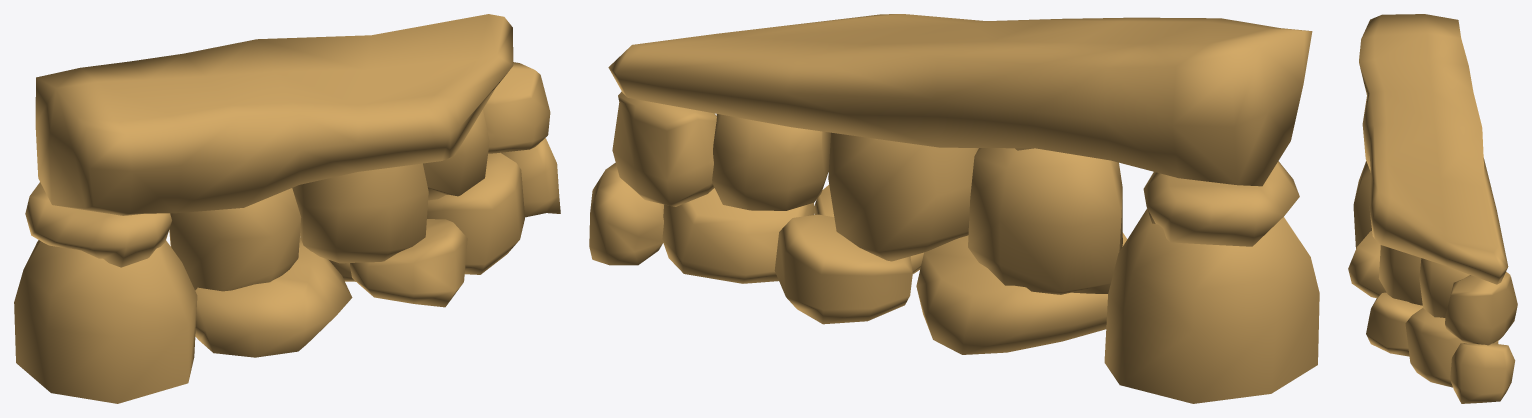
Rendered from LOD1_pont.fbx.
The picture shows the model from 3 angles, left to right: view 1: azimuth 30°, elevation 25°; view 2: azimuth 150°, elevation 25°; view 3: azimuth 270°, elevation 25°; orthographic projection. The views are drawn at different scales.
Parts seen in each view (by area): view 1: pont_LOD1; view 2: pont_LOD1; view 3: pont_LOD1.
Boxes of the visible parts, x1,y1,x2,y2 form: pont_LOD1: (14, 14, 560, 403); pont_LOD1: (589, 14, 1319, 403); pont_LOD1: (1348, 14, 1517, 403).
Size of the model in its own units: 2990 by 1456 by 1062.
